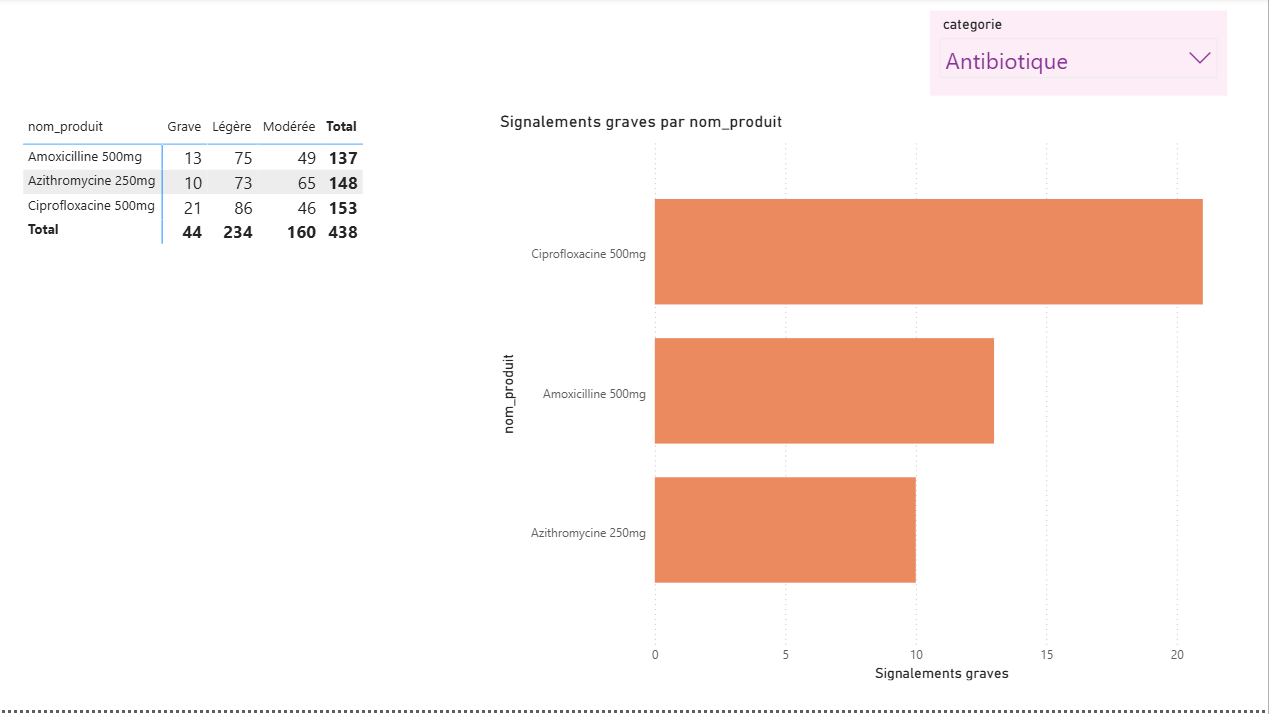

Layout of this report page (visuals, bound fields, positions):
{"tool":"powerbi","page":{"name":"Détails sur les signalements","canvas":[1280,720],"ordinal":1},"visuals":[{"type":"pivotTable","fields":{"Rows":["public dim_produits.nom_produit"],"Columns":["public fact_signalements.gravite"],"Values":["Count(public fact_signalements.signalement_id)"]},"box":[18.2,115.1,386.1,579.9],"z":0},{"type":"clusteredBarChart","fields":{"Y":["public fact_signalements.Signalements graves"],"Category":["public dim_produits.nom_produit"]},"box":[499.7,115.1,752.6,579.9],"z":1},{"type":"slicer","fields":{"Values":["public dim_produits.categorie"]},"box":[938.8,13.6,299.8,86.3],"z":2}]}

Visuals, with their boxes in screenshot pixels (x1, y1, x2, y2), scaled from the page's 1280x720 canvas onto the 1269x714 screenshot:
pivotTable - public dim_produits.nom_produit x public fact_signalements.gravite: bbox=(18, 114, 401, 689)
clusteredBarChart - public fact_signalements.Signalements graves x public dim_produits.nom_produit: bbox=(495, 114, 1242, 689)
slicer - public dim_produits.categorie: bbox=(931, 13, 1228, 99)
